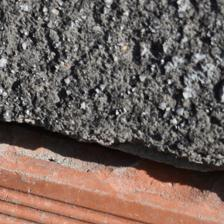Crack: (5, 105, 223, 185)
